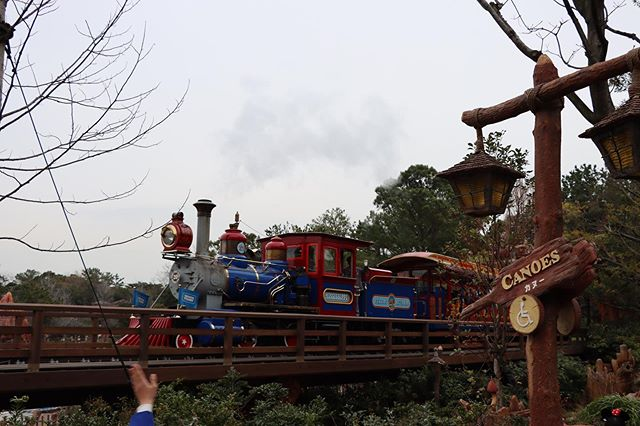bridge: (1, 301, 513, 395)
light pole: (465, 71, 640, 426)
sky: (8, 1, 531, 254)
train: (137, 219, 518, 360)
tree: (363, 162, 459, 256)
vegetation: (554, 167, 640, 426)
